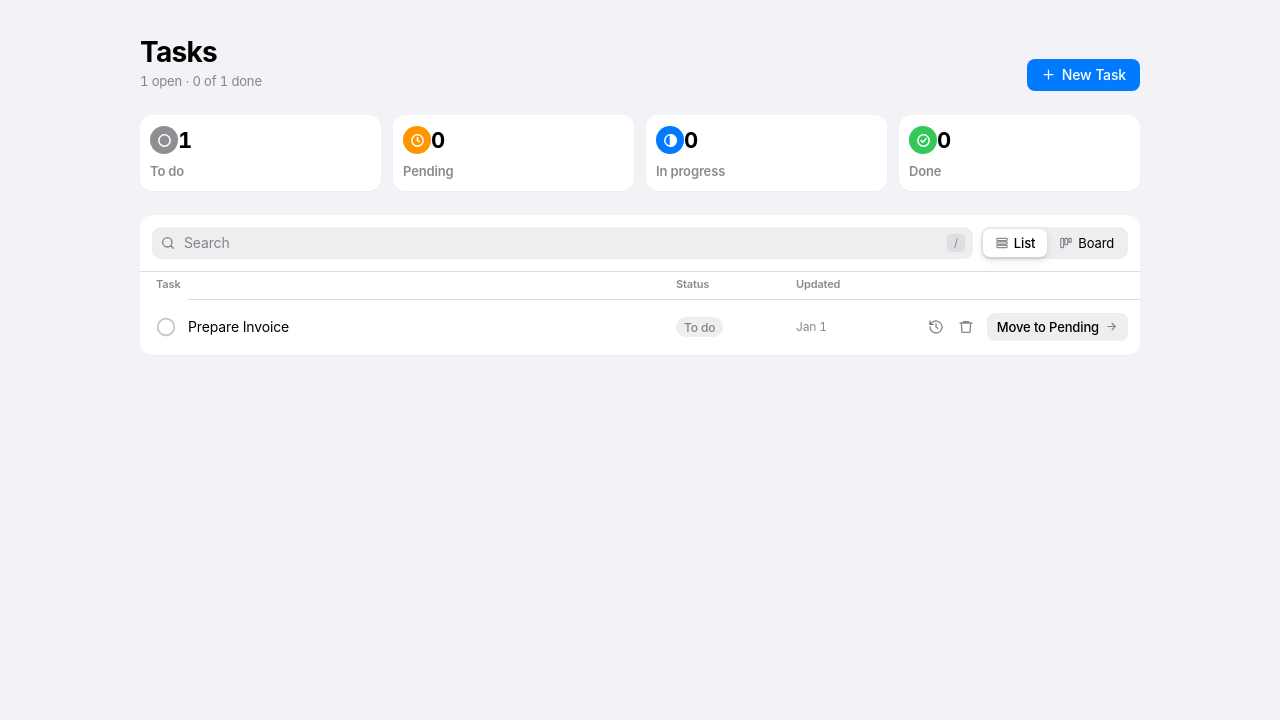
TasksView › moves a task to its next status
What coordinates should you click on to do the following:
click the button "Move to Pending"
I would click on:
 (1057, 327)
Its box is top-left (987, 313), bottom-right (1128, 341).
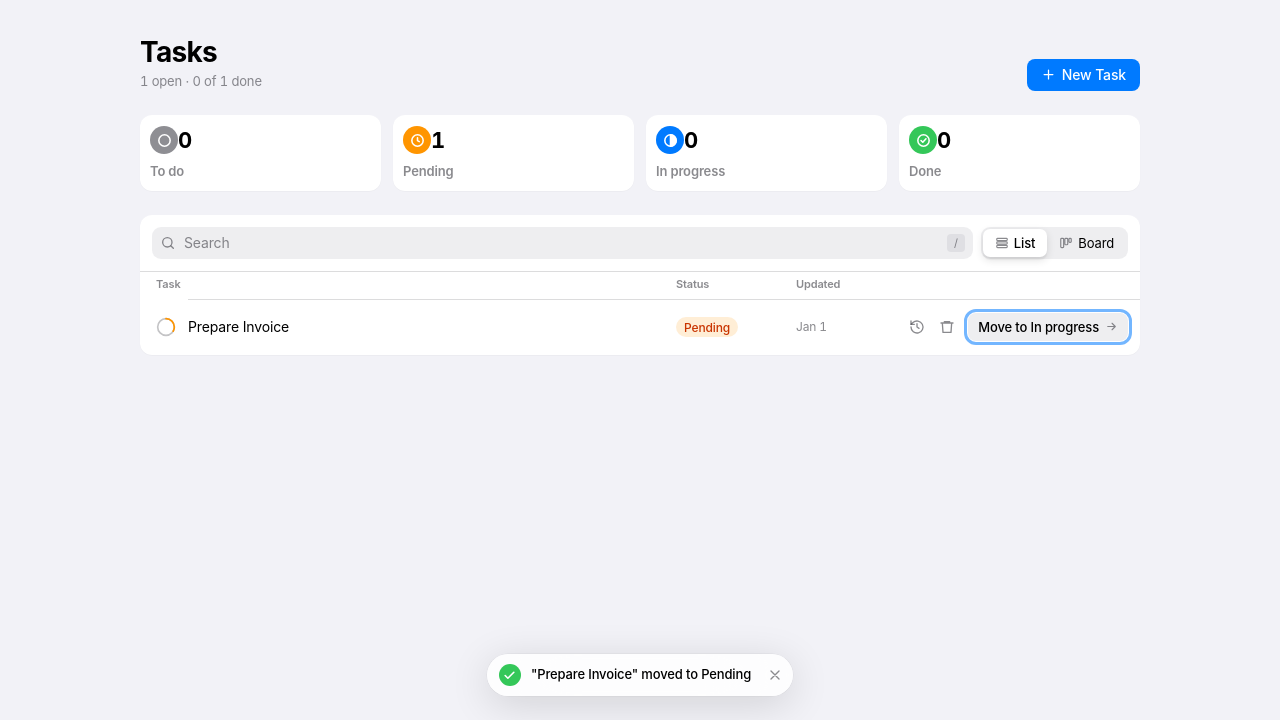
expect the button "Move to In progress" is shown: met, box top-left (968, 313), bottom-right (1128, 341)
